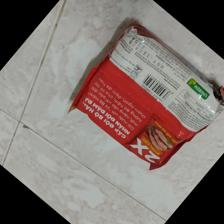3mien: (66, 23, 224, 172)
